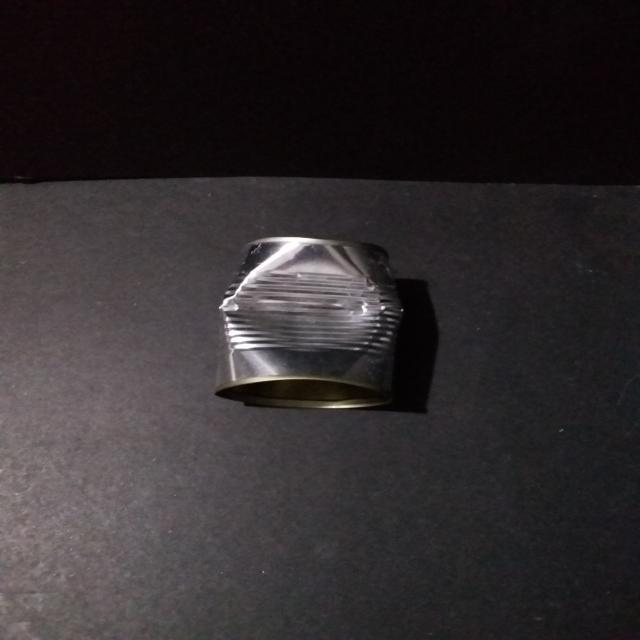metal: (208, 233, 410, 412)
